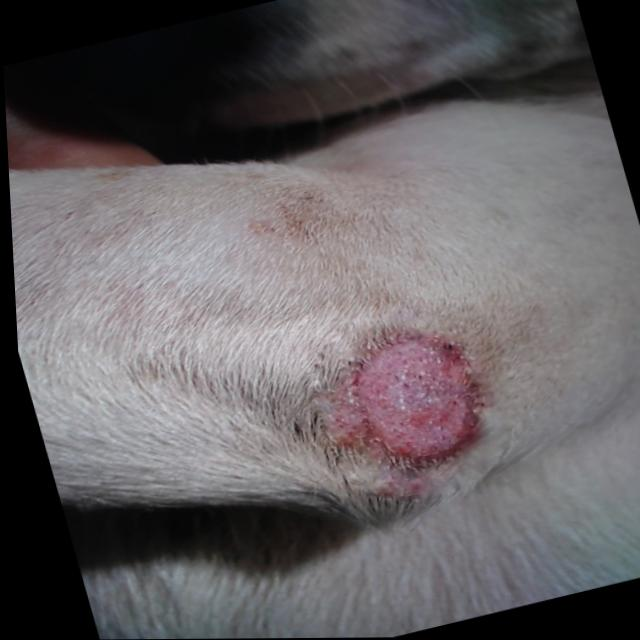ringworm: (317, 293, 515, 497)
